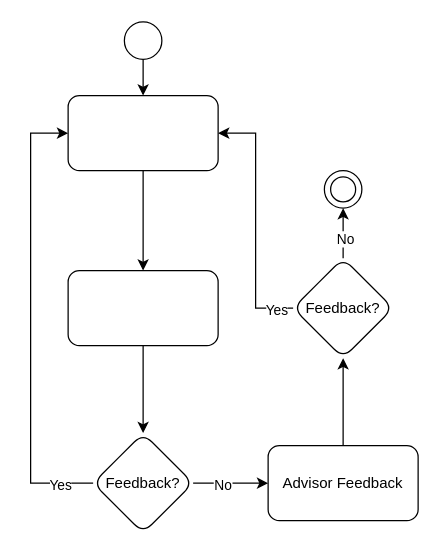
Some shapes in this 440 by 555 pixel diagram are drawn without their labels. The shapes that lost their labels are listed below. From the top down, each one's centre as x and y in pixels, then its label:
At pixel 142 132: "Submit Proposal".
At pixel 142 307: "AI Feedback".
